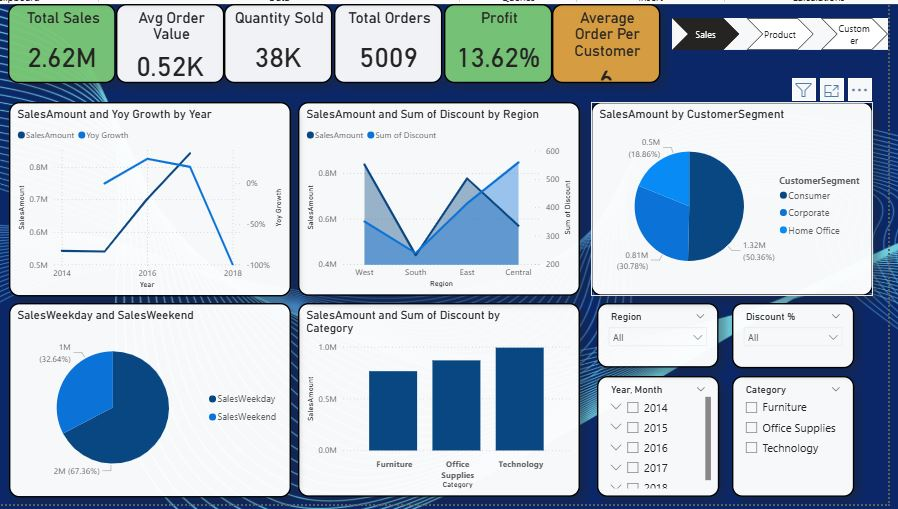

The dashboard page shown, as its layout file describes it:
{"tool":"powerbi","page":{"name":"Sales","canvas":[1280,720],"ordinal":0},"visuals":[{"type":"card","title":"Total Sales","fields":{"Values":["Orders.SalesAmount"]},"box":[12,0,155,113.8],"z":0},{"type":"clusteredColumnChart","fields":{"Y":["Orders.SalesAmount"],"Category":["Products.Category Hierarchy.Category","Products.Category Hierarchy.Sub-Category","Products.Category Hierarchy.Product Name"]},"box":[429.1,430.6,406.1,279.4],"z":1000},{"type":"areaChart","fields":{"Category":["Orders.Country Hierarchy.Country","Orders.Country Hierarchy.Region","Orders.Country Hierarchy.State","Orders.Country Hierarchy.City"],"Y":["Orders.SalesAmount","select"],"Y2":["Sum(Orders.Discount)"]},"box":[429.1,141.1,406.1,279.4],"z":2000},{"type":"slicer","fields":{"Values":["Dim Date.Date.Variation.Date Hierarchy.Year","Dim Date.Date.Variation.Date Hierarchy.Month"]},"box":[859.7,535.7,175.7,174.2],"z":3000},{"type":"slicer","fields":{"Values":["Orders.Region"]},"box":[859.7,430.6,175,93],"z":4000},{"type":"slicer","fields":{"Values":["Products.Category"]},"box":[1054.1,535.7,175.7,174.2],"z":5000},{"type":"card","title":"Avg Order Value","fields":{"Values":["Customers.AvgOrderValue"]},"box":[167,0,155.5,113.8],"z":6000},{"type":"lineChart","fields":{"Category":["Dim Date.Date.Variation.Date Hierarchy.Year","Dim Date.Date.Variation.Date Hierarchy.Quarter","Dim Date.Date.Variation.Date Hierarchy.Month"],"Y":["Orders.SalesAmount"],"Y2":["Orders.Yoy Growth"]},"box":[13,141.1,406.1,280],"z":7000},{"type":"card","title":"Quantity Sold","fields":{"Values":["Sum(Orders.Quantity)"]},"box":[322.6,0,155.5,113.8],"z":8000},{"type":"card","title":"Total Orders","fields":{"Values":["Customers.TotalOrders"]},"box":[481,0,155.5,113.8],"z":9000},{"type":"pieChart","fields":{"Y":["Orders.SalesWeekday","Orders.SalesWeekend"]},"box":[13,430.6,406.1,280],"z":10000},{"type":"pageNavigator","box":[967.7,20.2,312.5,46.1],"z":11000},{"type":"pieChart","fields":{"Category":["Customers.Segment"],"Y":["Orders.SalesAmount"]},"box":[851,141.1,406.1,279.4],"z":12000},{"type":"slicer","fields":{"Values":["Orders.Discount %"]},"box":[1054.1,430.6,175.7,93.6],"z":13000},{"type":"card","title":"Profit","fields":{"Values":["Orders.Profit %"]},"box":[639.4,0,155.5,113.8],"z":14000},{"type":"card","title":"Average Order Per Customer","fields":{"Values":["Customers.AvgOrderPerCustomer"]},"box":[794.9,0,155.5,113.8],"z":15000}]}

Visuals, with their boxes in screenshot pixels (x1, y1, x2, y2), scaled from the page's 1280x720 canvas onto the 898x509 screenshot:
"Total Sales" card: pyautogui.locateOnScreen(8, 0, 117, 80)
clusteredColumnChart - Orders.SalesAmount x Products.Category Hierarchy.Category: pyautogui.locateOnScreen(301, 304, 586, 502)
areaChart - Orders.Country Hierarchy.Country x Orders.Country Hierarchy.Region: pyautogui.locateOnScreen(301, 100, 586, 297)
slicer - Dim Date.Date.Variation.Date Hierarchy.Year x Dim Date.Date.Variation.Date Hierarchy.Month: pyautogui.locateOnScreen(603, 379, 726, 502)
slicer - Orders.Region: pyautogui.locateOnScreen(603, 304, 726, 370)
slicer - Products.Category: pyautogui.locateOnScreen(740, 379, 863, 502)
"Avg Order Value" card: pyautogui.locateOnScreen(117, 0, 226, 80)
lineChart - Dim Date.Date.Variation.Date Hierarchy.Year x Dim Date.Date.Variation.Date Hierarchy.Quarter: pyautogui.locateOnScreen(9, 100, 294, 298)
"Quantity Sold" card: pyautogui.locateOnScreen(226, 0, 335, 80)
"Total Orders" card: pyautogui.locateOnScreen(337, 0, 447, 80)
pieChart - Orders.SalesWeekday x Orders.SalesWeekend: pyautogui.locateOnScreen(9, 304, 294, 502)
pageNavigator: pyautogui.locateOnScreen(679, 14, 897, 47)
pieChart - Customers.Segment x Orders.SalesAmount: pyautogui.locateOnScreen(597, 100, 882, 297)
slicer - Orders.Discount %: pyautogui.locateOnScreen(740, 304, 863, 371)
"Profit" card: pyautogui.locateOnScreen(449, 0, 558, 80)
"Average Order Per Customer" card: pyautogui.locateOnScreen(558, 0, 667, 80)
